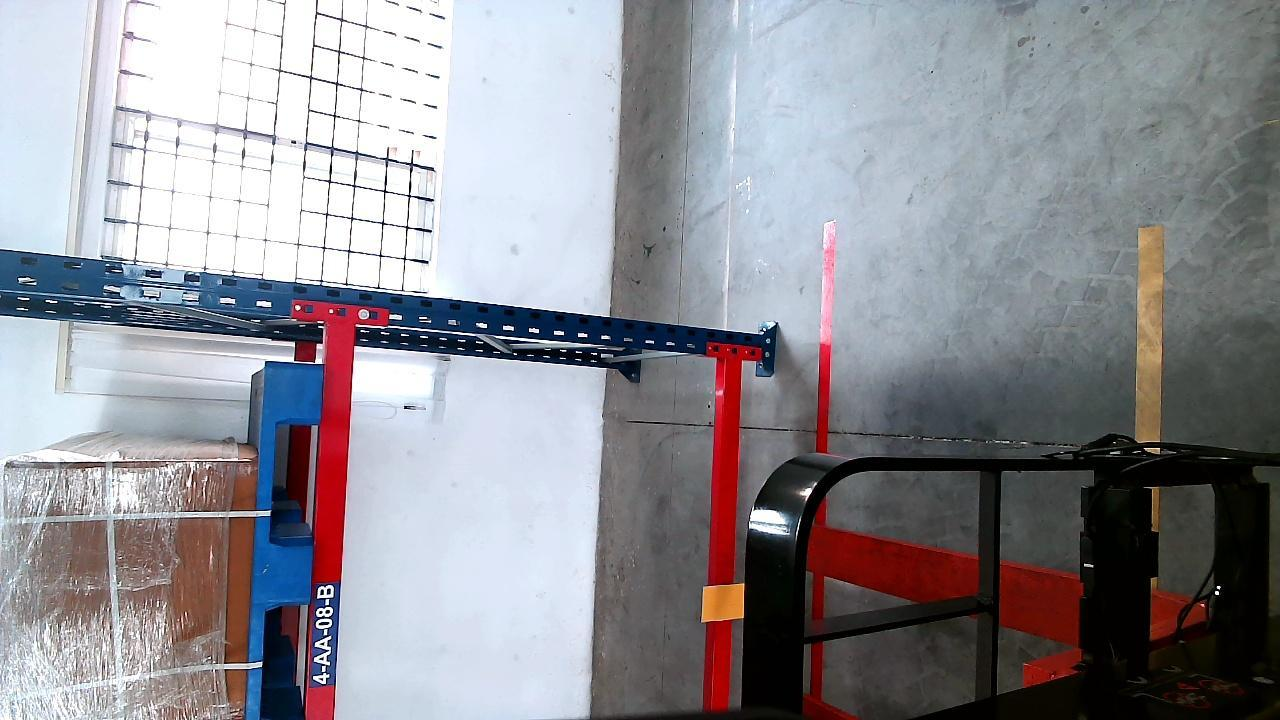red_line: (816, 223, 837, 451)
yellow_line: (1138, 221, 1163, 445)
